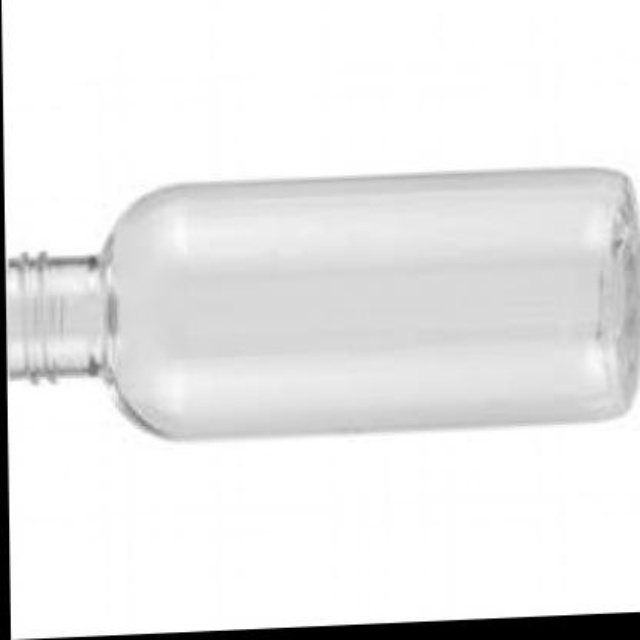trash: (100, 168, 638, 437)
